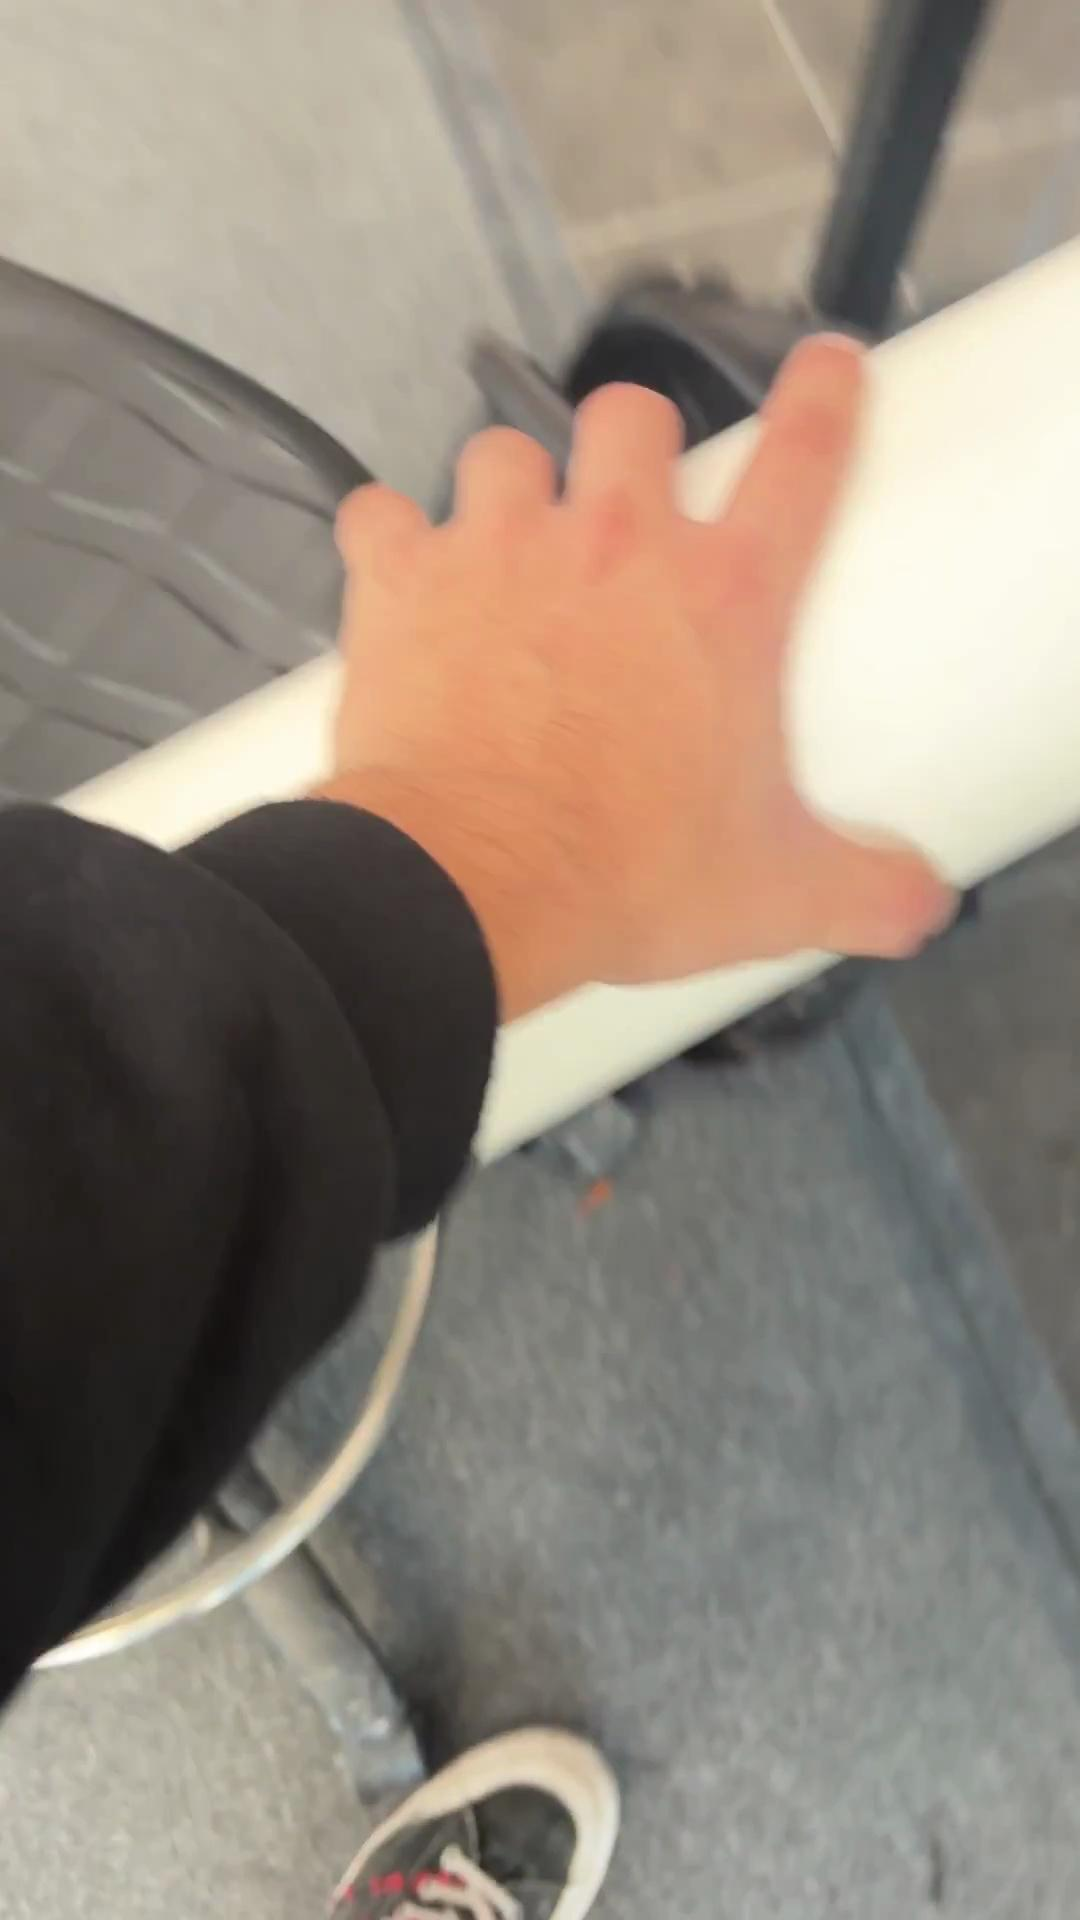CORAL: (50, 235, 1079, 1160)
